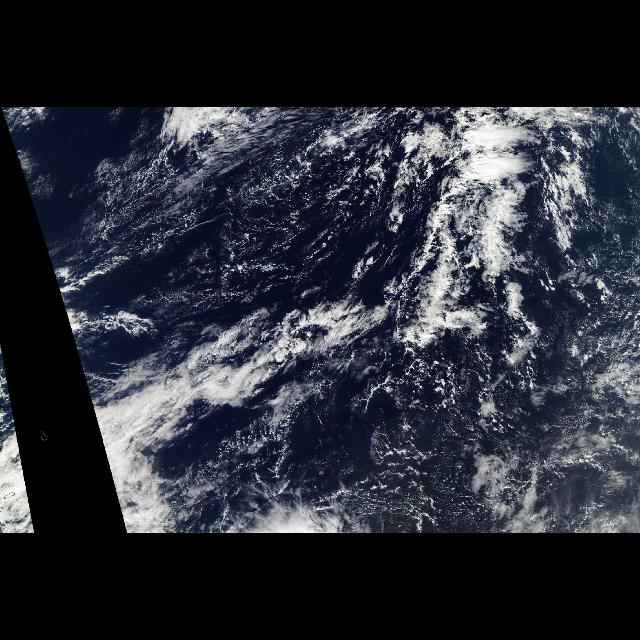Gravel: (118, 162, 382, 296)
